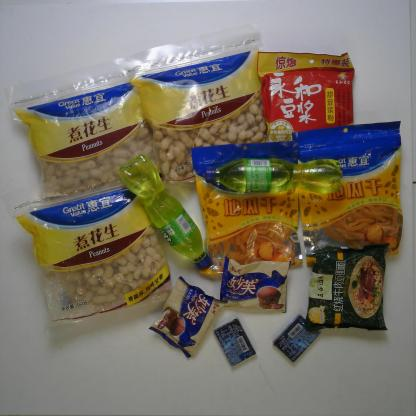Dessert: (144, 274, 230, 362), (217, 254, 292, 315)
Dried Food: (1, 162, 174, 335), (121, 20, 270, 199), (4, 57, 158, 200)
Dried Fruit: (289, 120, 406, 268), (187, 139, 306, 278)
Drink: (116, 153, 214, 271), (202, 157, 346, 197)
Gum: (270, 312, 323, 364), (210, 315, 258, 369)
Instant Drink: (254, 48, 356, 146)
Instant Noodles: (302, 240, 392, 335)
